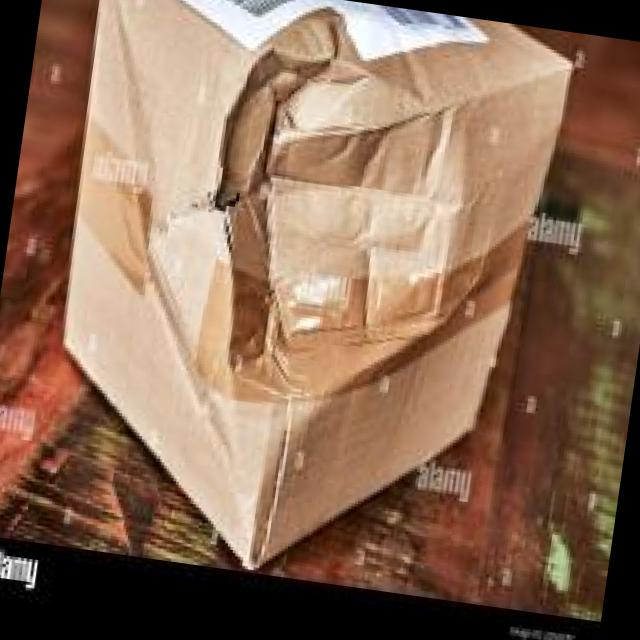box: (207, 1, 505, 483), (190, 313, 437, 622), (239, 267, 411, 427), (292, 198, 407, 350), (204, 243, 264, 482)
